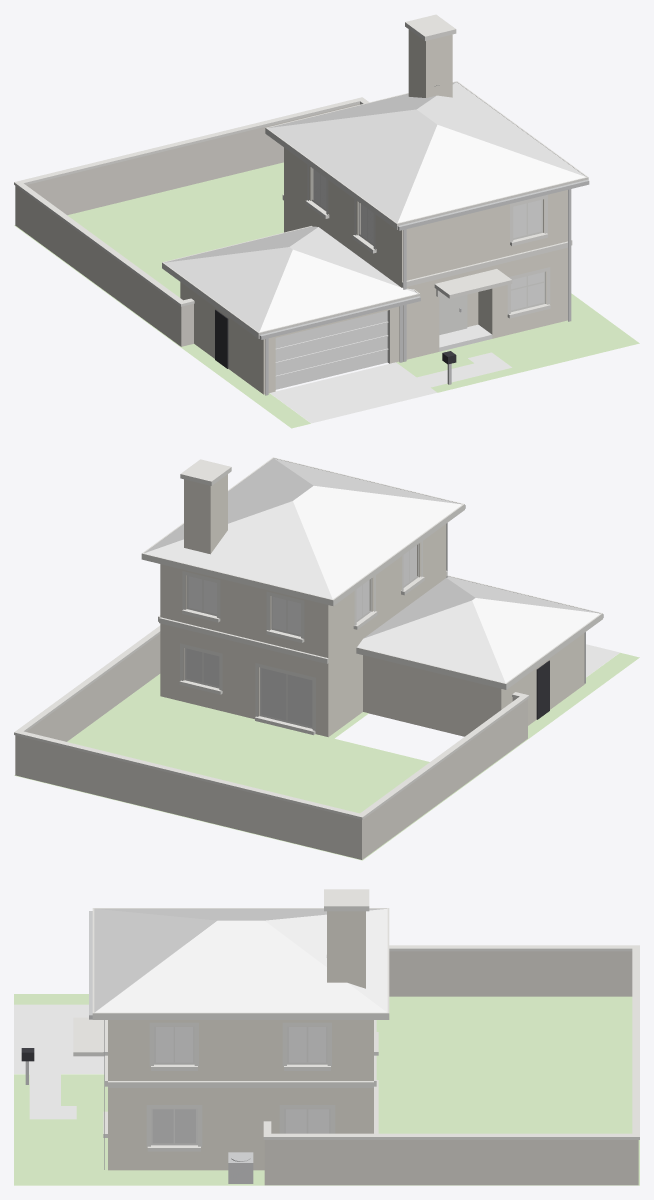
Rendered from house_spanish58b.glb.
The picture shows the model from 3 angles, top to bottom: view 1: azimuth 30°, elevation 25°; view 2: azimuth 150°, elevation 25°; view 3: azimuth 270°, elevation 25°; orthographic projection. The views are drawn at different scales.
Visible parts, largest first — view 1: house_spanish58b_Roof, house_spanish58b_Walls, house_spanish58b_Lawn, house_spanish58b_Walls2, house_spanish58b_Trim, house_spanish58b_Site, house_spanish58b_Doors, house_spanish58b_Details, house_spanish58b_Glass, house_spanish58b_Frames, house_spanish58b_Accent; view 2: house_spanish58b_Roof, house_spanish58b_Walls, house_spanish58b_Walls2, house_spanish58b_Lawn, house_spanish58b_Trim, house_spanish58b_WindowsLit, house_spanish58b_Glass, house_spanish58b_Frames, house_spanish58b_Accent, house_spanish58b_Site; view 3: house_spanish58b_Lawn, house_spanish58b_Walls2, house_spanish58b_Roof, house_spanish58b_Walls, house_spanish58b_Trim, house_spanish58b_Site, house_spanish58b_Glass, house_spanish58b_Details, house_spanish58b_WindowsLit, house_spanish58b_Frames.
Boxes of the visible parts, bbox=[...] form: house_spanish58b_Roof: bbox=[164, 82, 585, 332]; house_spanish58b_Walls: bbox=[180, 29, 567, 394]; house_spanish58b_Lawn: bbox=[14, 162, 639, 428]; house_spanish58b_Walls2: bbox=[15, 103, 360, 346]; house_spanish58b_Trim: bbox=[14, 14, 588, 363]; house_spanish58b_Site: bbox=[270, 324, 511, 423]; house_spanish58b_Doors: bbox=[275, 310, 388, 389]; house_spanish58b_Details: bbox=[259, 85, 589, 395]; house_spanish58b_Glass: bbox=[313, 169, 543, 310]; house_spanish58b_Frames: bbox=[311, 168, 545, 334]; house_spanish58b_Accent: bbox=[215, 309, 456, 368]; house_spanish58b_Roof: bbox=[144, 458, 600, 683]; house_spanish58b_Walls: bbox=[160, 474, 584, 737]; house_spanish58b_Walls2: bbox=[15, 634, 527, 859]; house_spanish58b_Lawn: bbox=[14, 652, 639, 860]; house_spanish58b_Trim: bbox=[14, 457, 602, 819]; house_spanish58b_WindowsLit: bbox=[186, 648, 312, 726]; house_spanish58b_Glass: bbox=[188, 545, 416, 634]; house_spanish58b_Frames: bbox=[184, 544, 418, 728]; house_spanish58b_Accent: bbox=[536, 660, 549, 719]; house_spanish58b_Site: bbox=[586, 644, 619, 677]; house_spanish58b_Lawn: bbox=[14, 994, 639, 1185]; house_spanish58b_Walls2: bbox=[264, 951, 638, 1185]; house_spanish58b_Roof: bbox=[94, 908, 387, 1012]; house_spanish58b_Walls: bbox=[108, 911, 373, 1170]; house_spanish58b_Trim: bbox=[73, 889, 639, 1151]; house_spanish58b_Site: bbox=[14, 1004, 104, 1119]; house_spanish58b_Glass: bbox=[156, 1027, 328, 1133]; house_spanish58b_Details: bbox=[25, 911, 326, 1183]; house_spanish58b_WindowsLit: bbox=[152, 1109, 195, 1143]; house_spanish58b_Frames: bbox=[151, 1026, 330, 1145].
Bounding box in the file's own units: 58 × 35.82 × 80.
